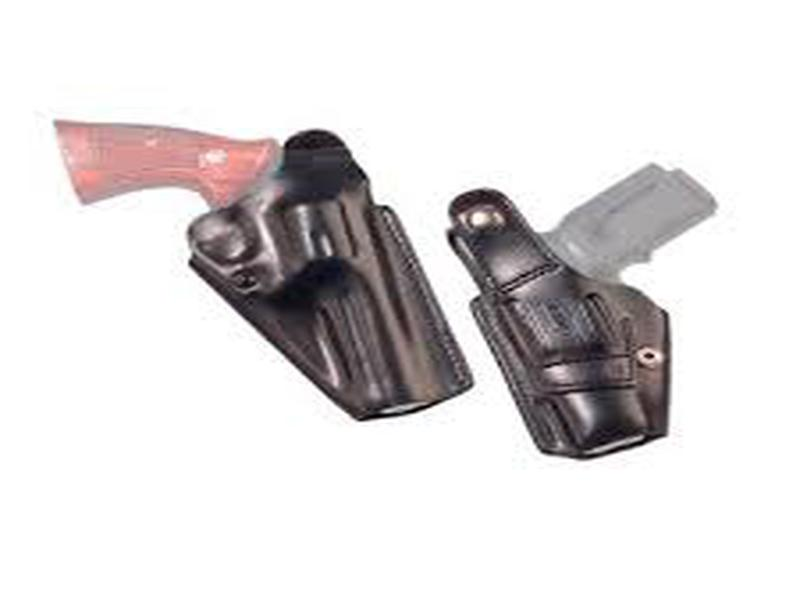gun: (39, 107, 472, 421), (446, 155, 724, 459)
